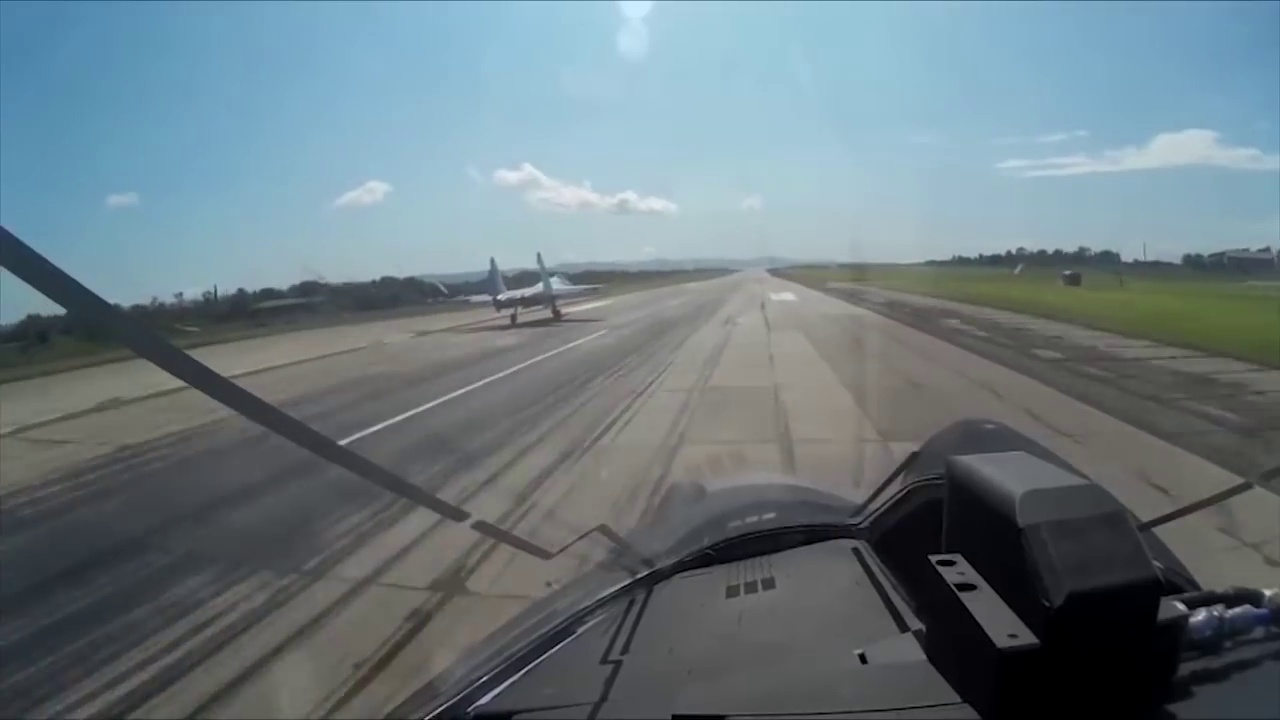Su35: (427, 248, 610, 329)
